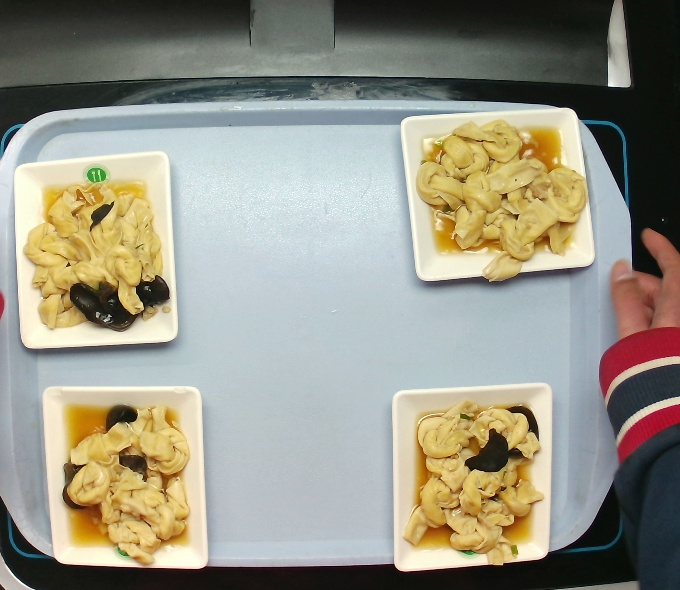wcq-QianZhangJie: (413, 119, 589, 276), (398, 394, 551, 564), (14, 176, 173, 329), (55, 397, 194, 560)
